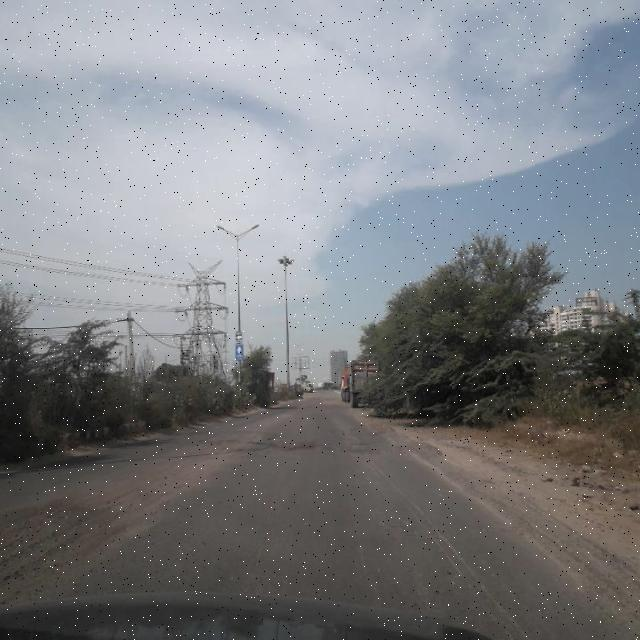D00: (365, 453, 522, 635)
D40: (1, 486, 141, 596), (244, 424, 340, 454)
